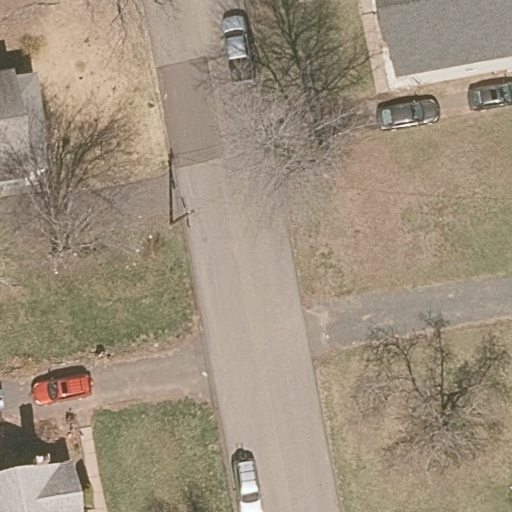DT: (167, 196, 196, 231)
